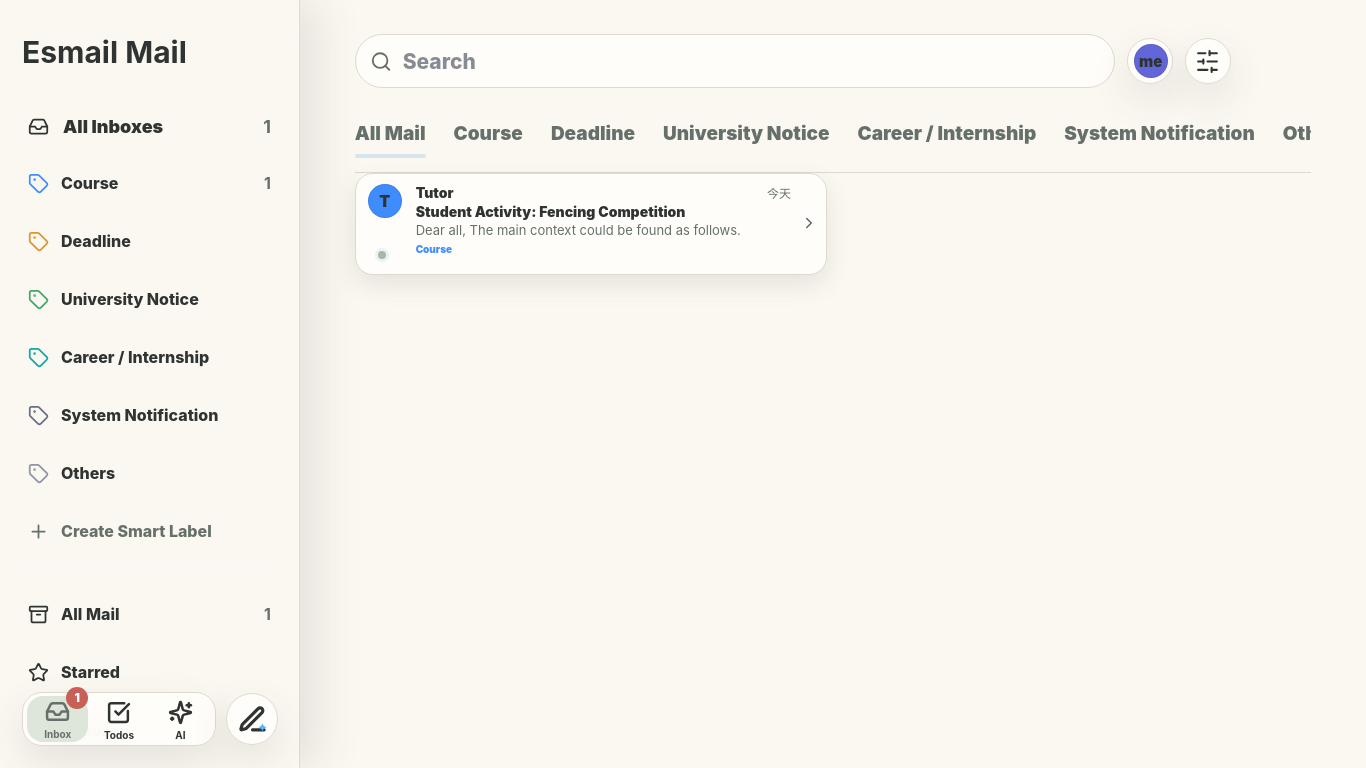
Test case: App unread state › regenerates older English summary cache entries while keeping the cached body
Check: the text "Student Activity: Fencing Competition" is shown, box 416,203 -> 685,220
Click the button "Student Activity: Fencing Competition": (591, 224) 355,173 -> 827,275
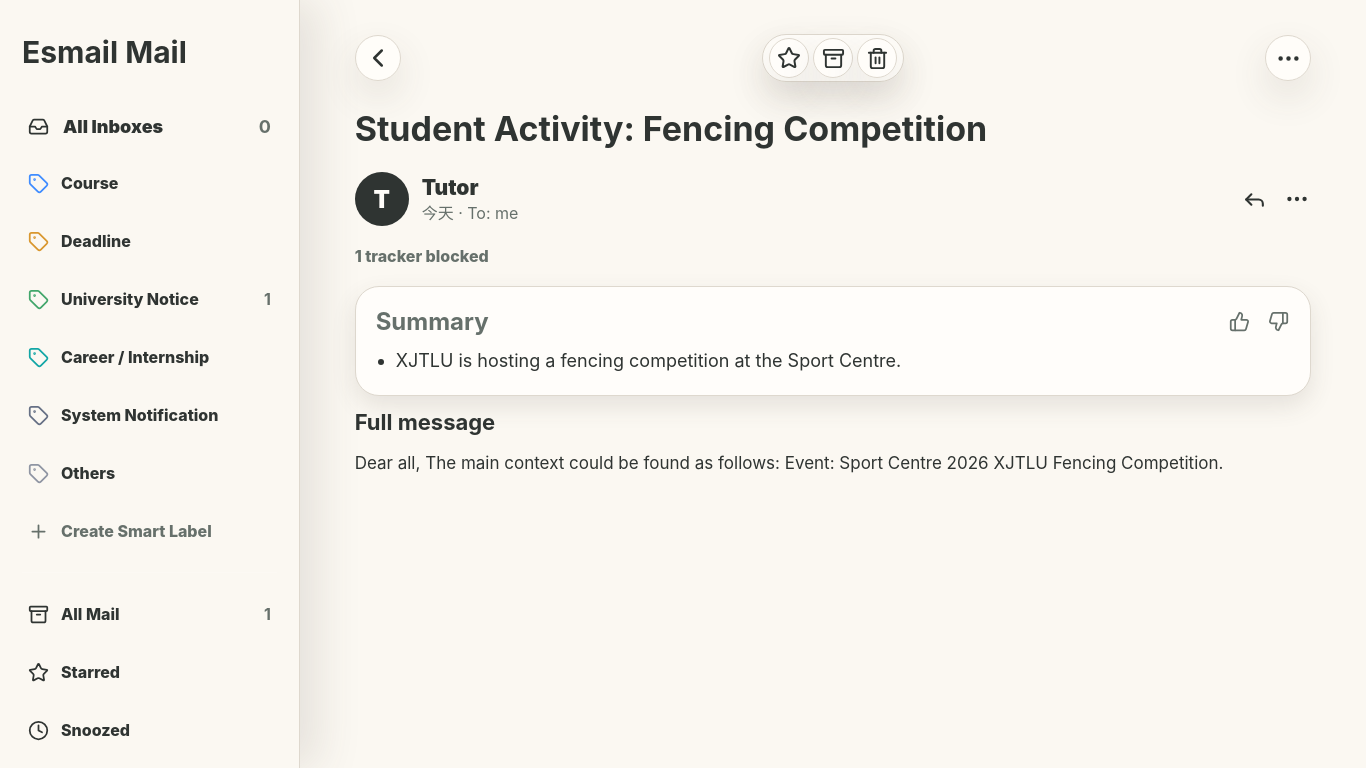
Check: the list item "XJTLU is hosting a fencing competition at the Sport Centre." is shown, box 396,350 -> 901,371
